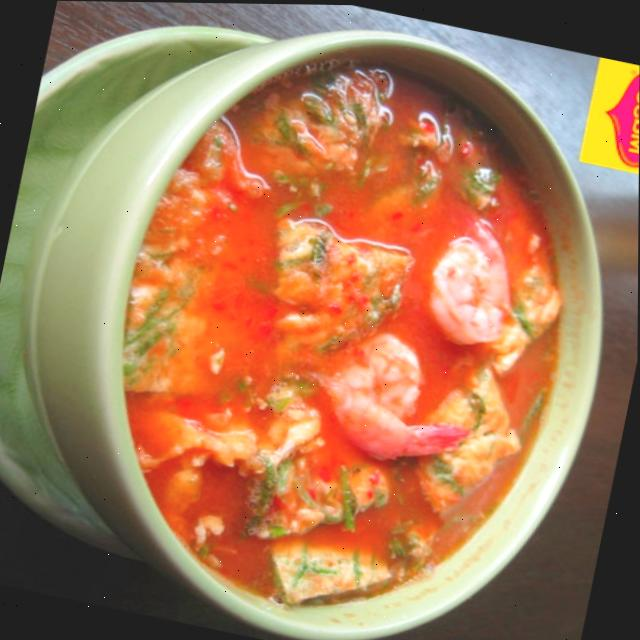汤锅炖物: (53, 1, 610, 640)
